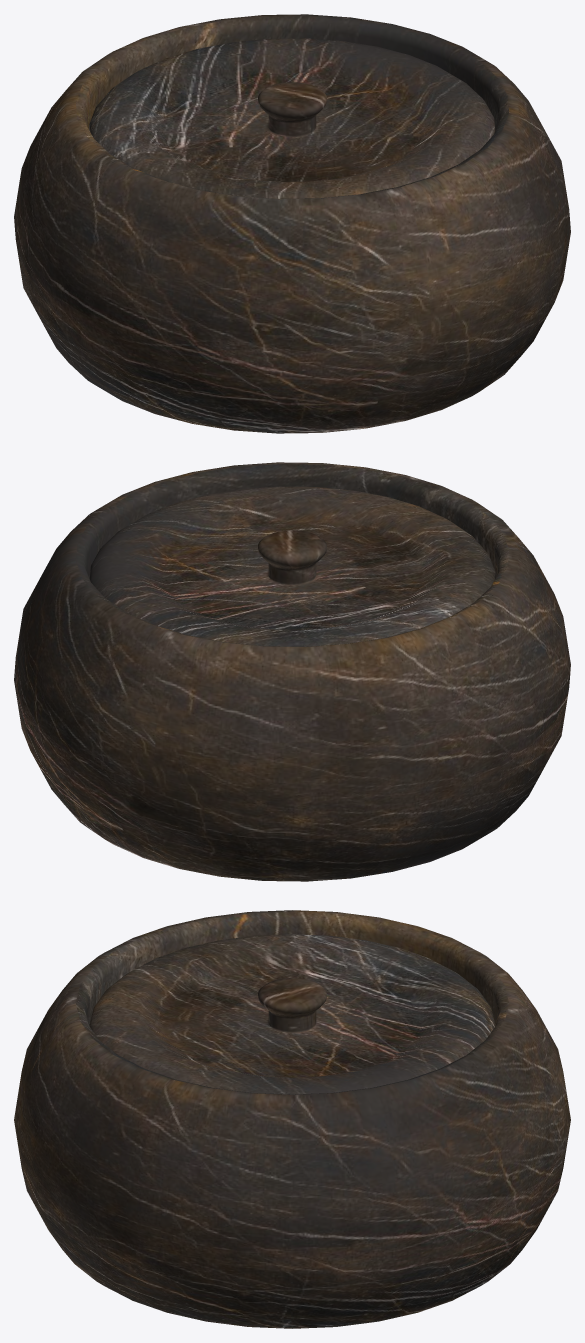
File: stonepot.glb
3 renders of one model, top to bottom at view 1: azimuth 30°, elevation 25°; view 2: azimuth 150°, elevation 25°; view 3: azimuth 270°, elevation 25°, orthographic.
Parts seen in each view (by area): view 1: SM_Bowl; view 2: SM_Bowl; view 3: SM_Bowl.
Boxes of the visible parts, x1,y1,x2,y2 form: SM_Bowl: [14, 14, 570, 433]; SM_Bowl: [14, 462, 570, 881]; SM_Bowl: [14, 910, 570, 1328].
Size of the model in its own units: 0.1469 by 0.0717 by 0.1469.
1 material, 1 textured.
